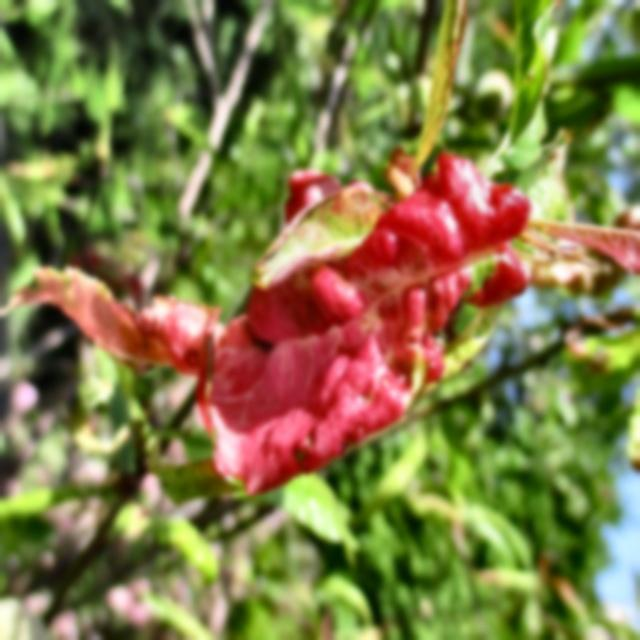leaf_curl: (42, 148, 580, 496)
